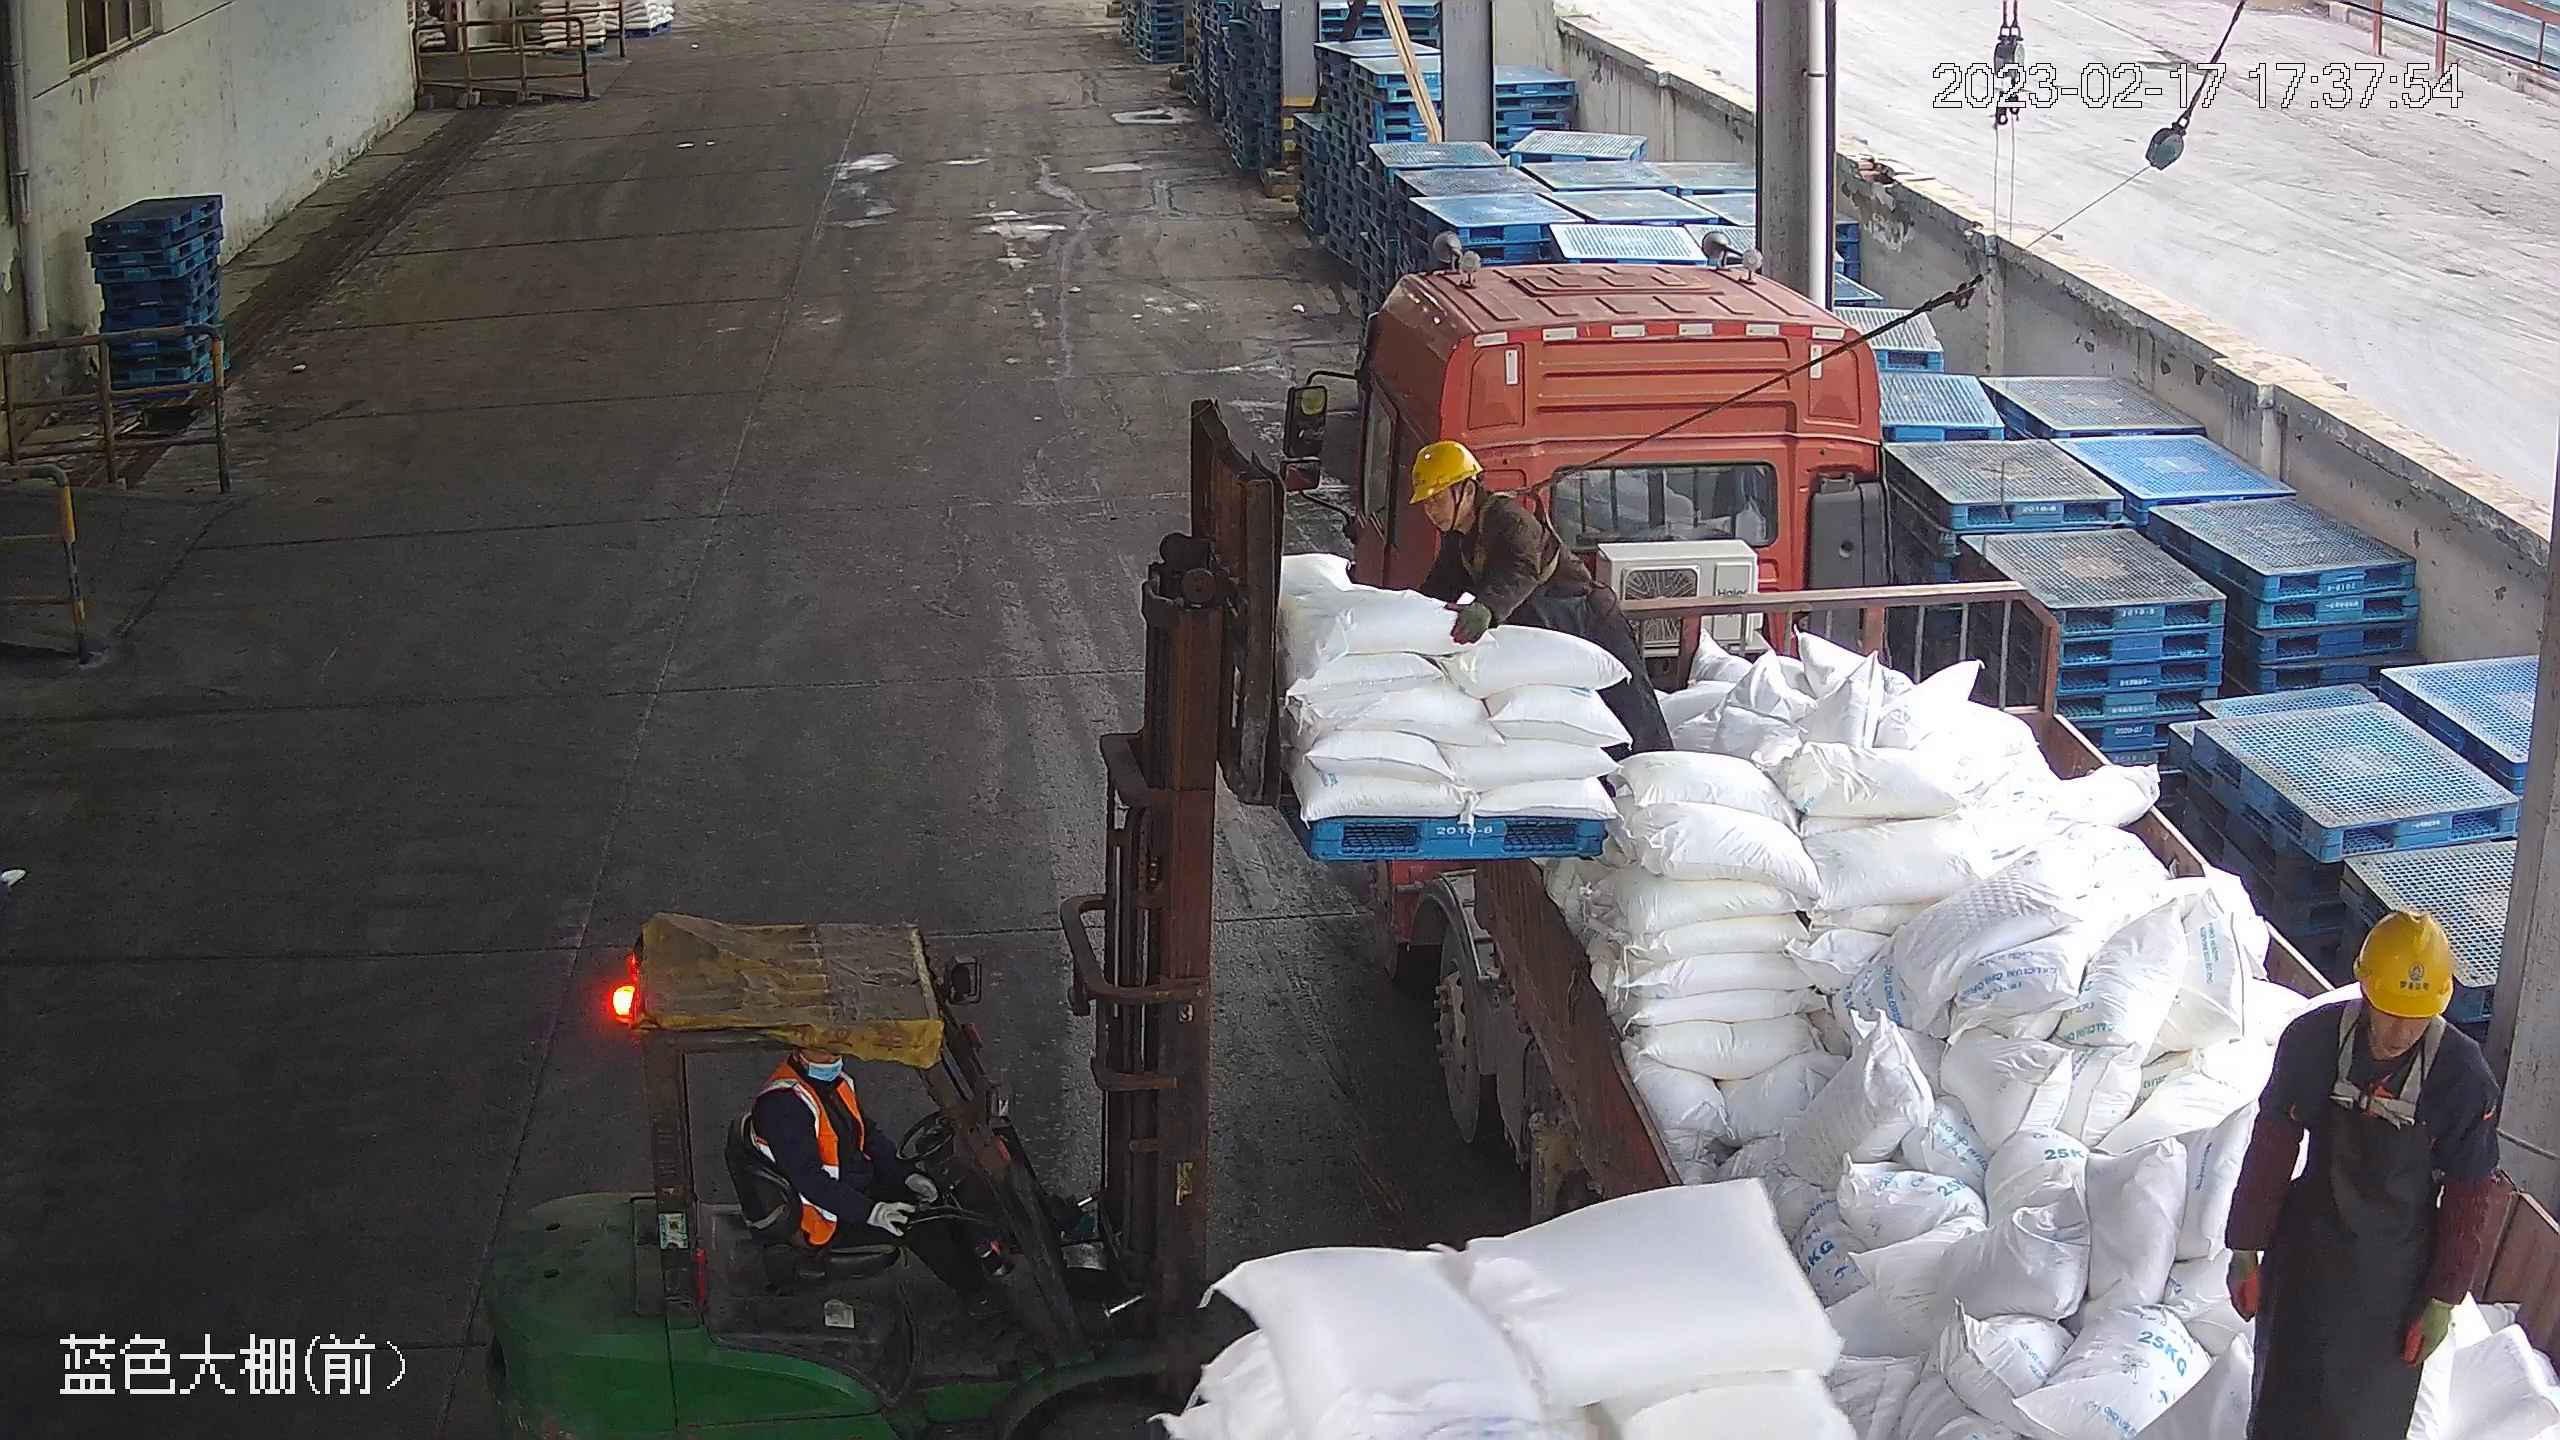belt: (2324, 998, 2456, 1129), (1456, 483, 1581, 584)
head: (2256, 905, 2500, 1126), (1404, 434, 1554, 573), (745, 1038, 876, 1143)
helmet: (2350, 903, 2462, 1019), (1406, 434, 1483, 504)
people: (2221, 903, 2507, 1439), (1399, 433, 1674, 762), (741, 1035, 999, 1340)
truck: (1142, 198, 2553, 1434)
